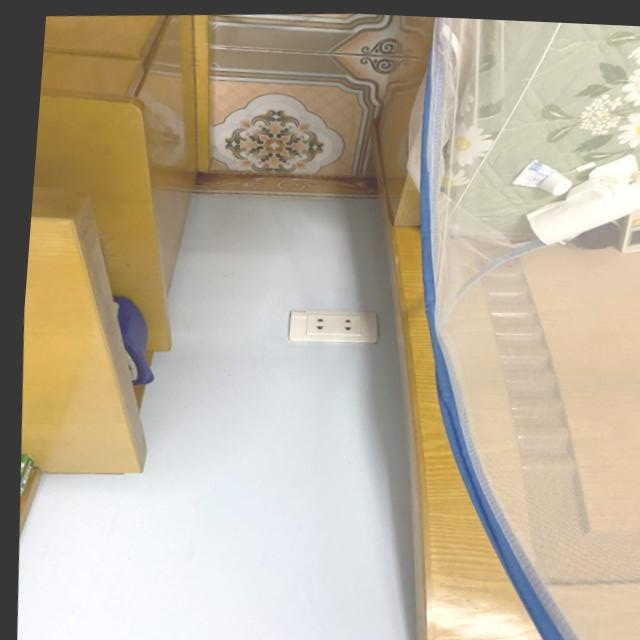outlet: (285, 305, 380, 348)
